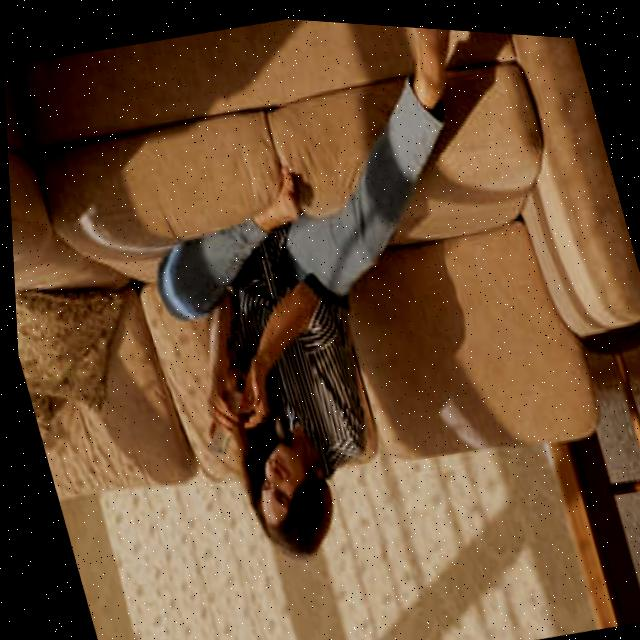smartphone-person: (117, 150, 426, 603)
